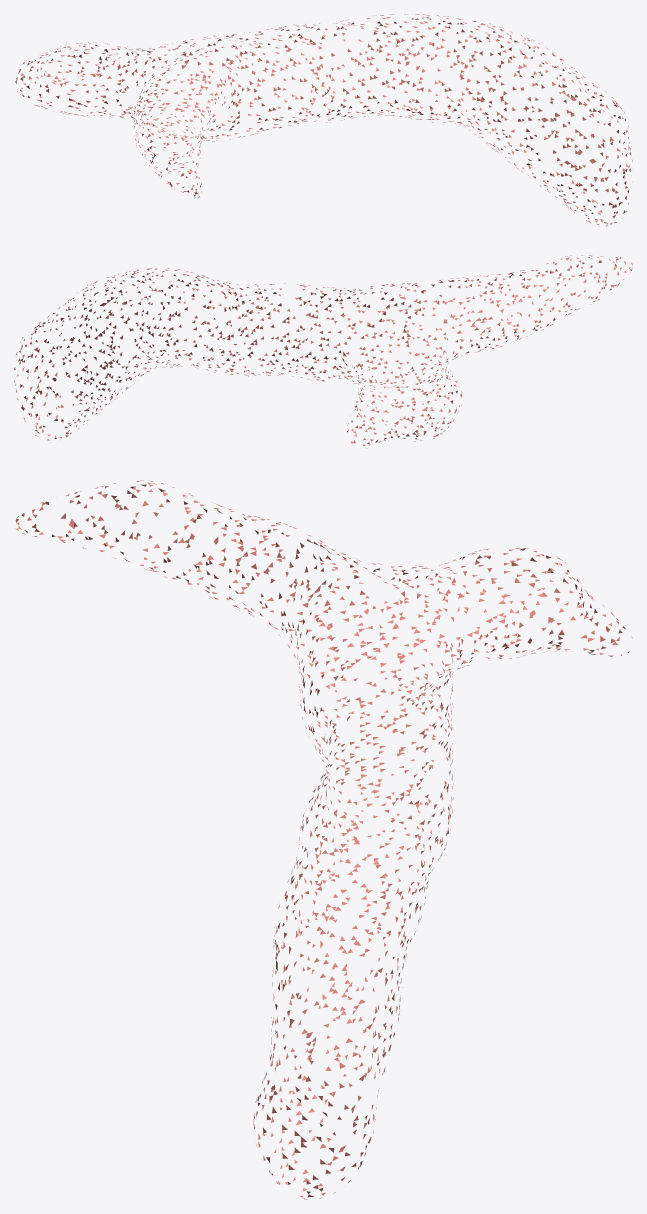
File: morph_001.glb
3 renders of one model, top to bottom at view 1: azimuth 30°, elevation 25°; view 2: azimuth 150°, elevation 25°; view 3: azimuth 270°, elevation 25°, orthographic. The views are drawn at different scales.
Bounding box in the file's own units: 101 × 47.64 × 70.85.
